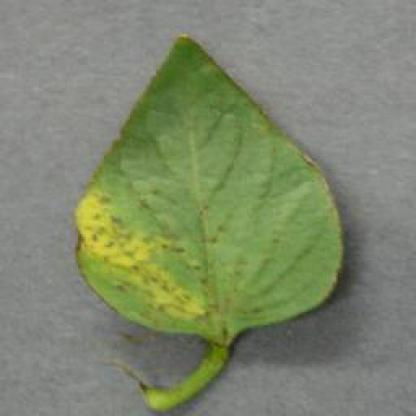bad leaf: (82, 196, 230, 351)
